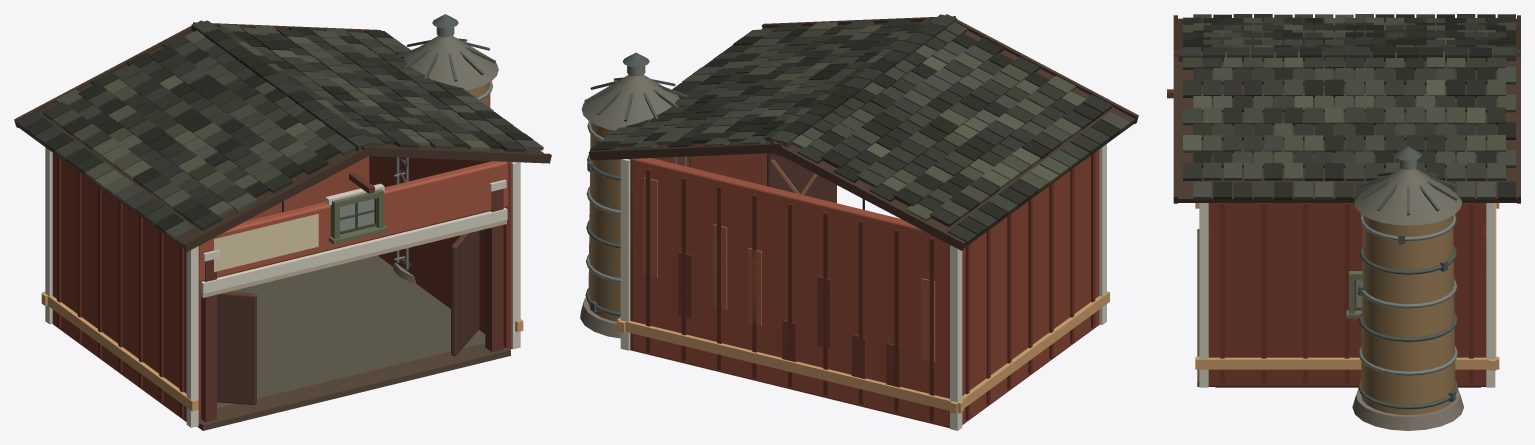
Rendered from barn.glb.
3 renders of one model, left to right at view 1: azimuth 30°, elevation 25°; view 2: azimuth 150°, elevation 25°; view 3: azimuth 270°, elevation 25°, orthographic. The views are drawn at different scales.
Parts seen in each view (by area): view 1: barnRoof, barnTrim, barnInteriorFloor, barnLeftWall, barnUpperFront, barn.batch.1, barnRightWall, siloHardware, barnSignboard, barnRearWall, barn.batch.0, windowPane; view 2: barnRoof, barnRearWall, barnTrim, barnLeftWall, siloHardware, siloStaves, barnRightWall, barn.batch.1; view 3: barnRoof, barnRightWall, siloStaves, barnTrim, siloHardware, barn.batch.0.
Part boxes in pixels (x1=…): barnRoof: x1=14, y1=20, x2=551, y2=251; barnTrim: x1=41, y1=147, x2=523, y2=430; barnInteriorFloor: x1=217, y1=255, x2=485, y2=408; barnLeftWall: x1=52, y1=153, x2=201, y2=425; barnUpperFront: x1=198, y1=161, x2=510, y2=281; barn.batch.1: x1=217, y1=231, x2=479, y2=404; barnRightWall: x1=369, y1=156, x2=513, y2=349; siloHardware: x1=393, y1=14, x2=498, y2=283; barnSignboard: x1=214, y1=213, x2=318, y2=271; barnRearWall: x1=246, y1=156, x2=369, y2=220; barn.batch.0: x1=328, y1=189, x2=387, y2=244; windowPane: x1=340, y1=199, x2=374, y2=231; barnRoof: x1=588, y1=14, x2=1138, y2=250; barnRearWall: x1=629, y1=158, x2=949, y2=428; barnTrim: x1=617, y1=144, x2=1109, y2=430; barnLeftWall: x1=948, y1=149, x2=1099, y2=427; siloHardware: x1=580, y1=52, x2=691, y2=338; siloStaves: x1=588, y1=122, x2=620, y2=321; barnRightWall: x1=629, y1=153, x2=766, y2=350; barn.batch.1: x1=767, y1=153, x2=836, y2=203; barnRoof: x1=1173, y1=14, x2=1520, y2=203; barnRightWall: x1=1208, y1=203, x2=1486, y2=386; siloStaves: x1=1361, y1=215, x2=1455, y2=414; barnTrim: x1=1167, y1=89, x2=1499, y2=387; siloHardware: x1=1352, y1=146, x2=1463, y2=430; barn.batch.0: x1=1346, y1=271, x2=1362, y2=318.
Bounding box in the file's own units: 11.04 × 6.39 × 7.85.
